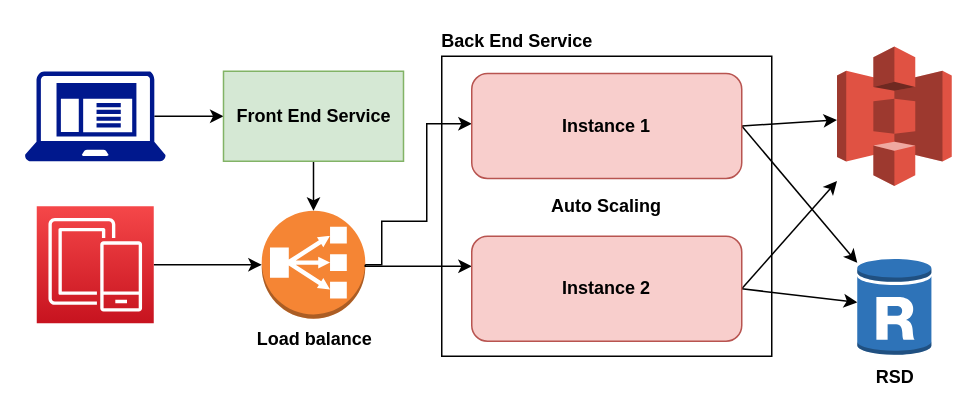
Image size: 980x413. Some labels were removed from this diagram. Each missing label, with the centre of its shape:
"Browser" goes at point (94, 115).
"mobile divice" goes at point (94, 264).
"S3" goes at point (894, 115).
